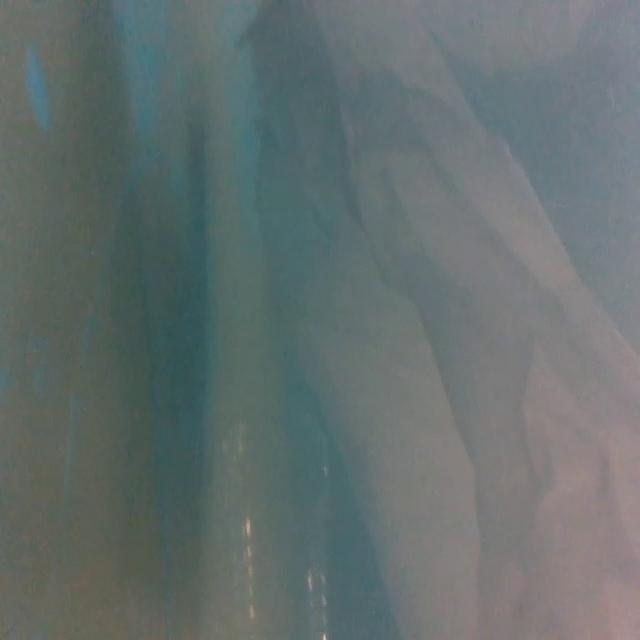plastic bags: (246, 0, 640, 640)
plastic bottle: (212, 389, 336, 640)
